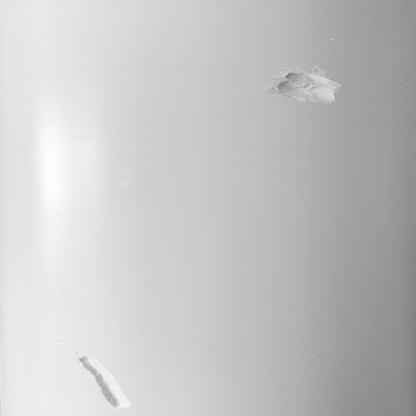sunshang: (73, 348, 137, 410), (268, 60, 347, 109)
